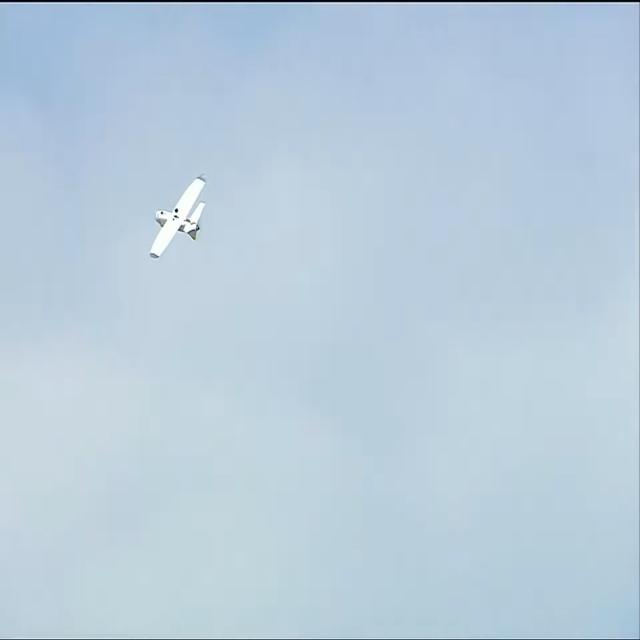iha: (150, 208, 208, 228)
